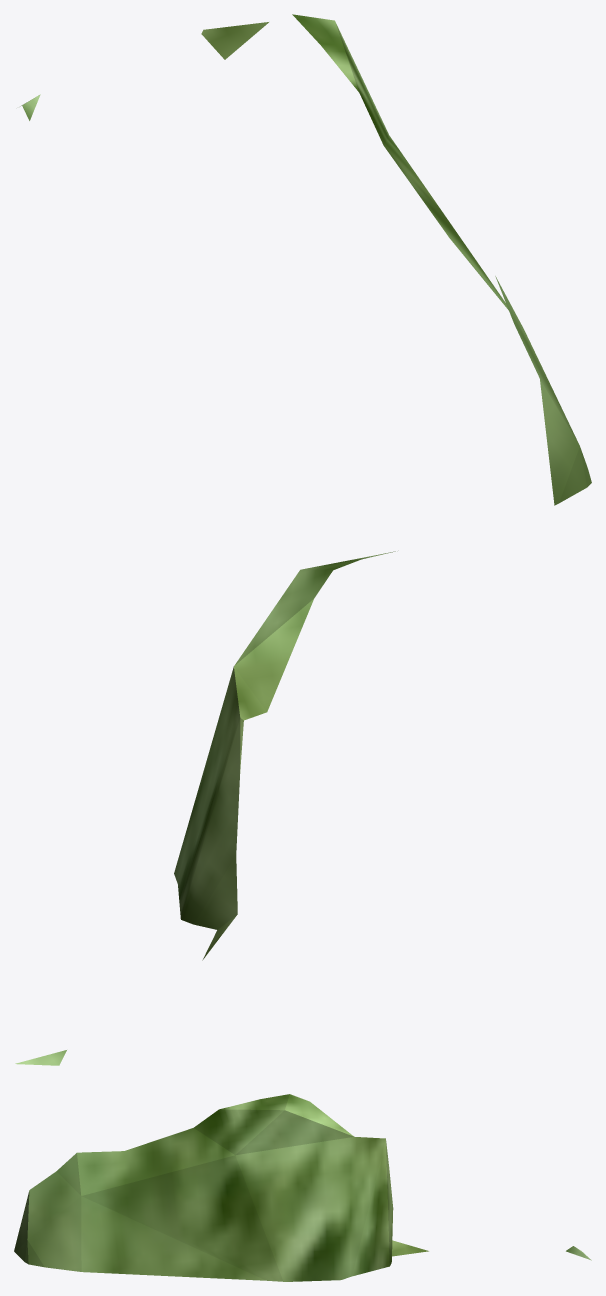
3 renders of one model, top to bottom at view 1: azimuth 30°, elevation 25°; view 2: azimuth 150°, elevation 25°; view 3: azimuth 270°, elevation 25°, orthographic. The views are drawn at different scales.
Bounding box in the file's own units: 0.1294 × 0.3095 × 1.03.
1 material, 1 textured.
